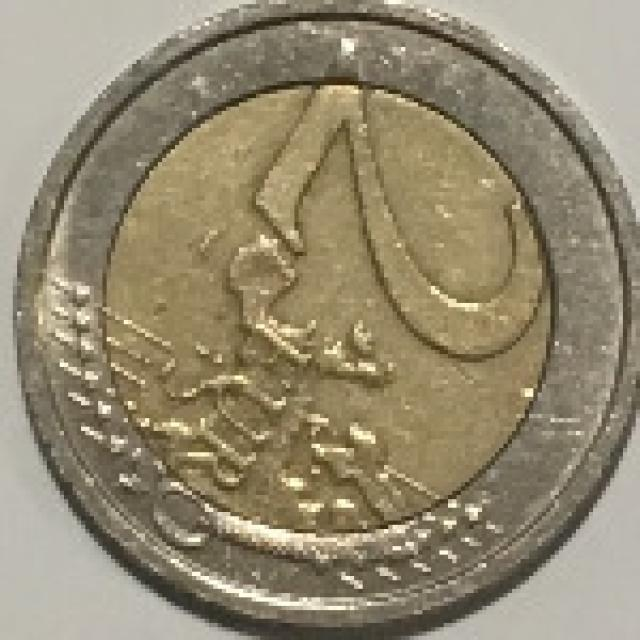2e: (3, 3, 639, 640)
